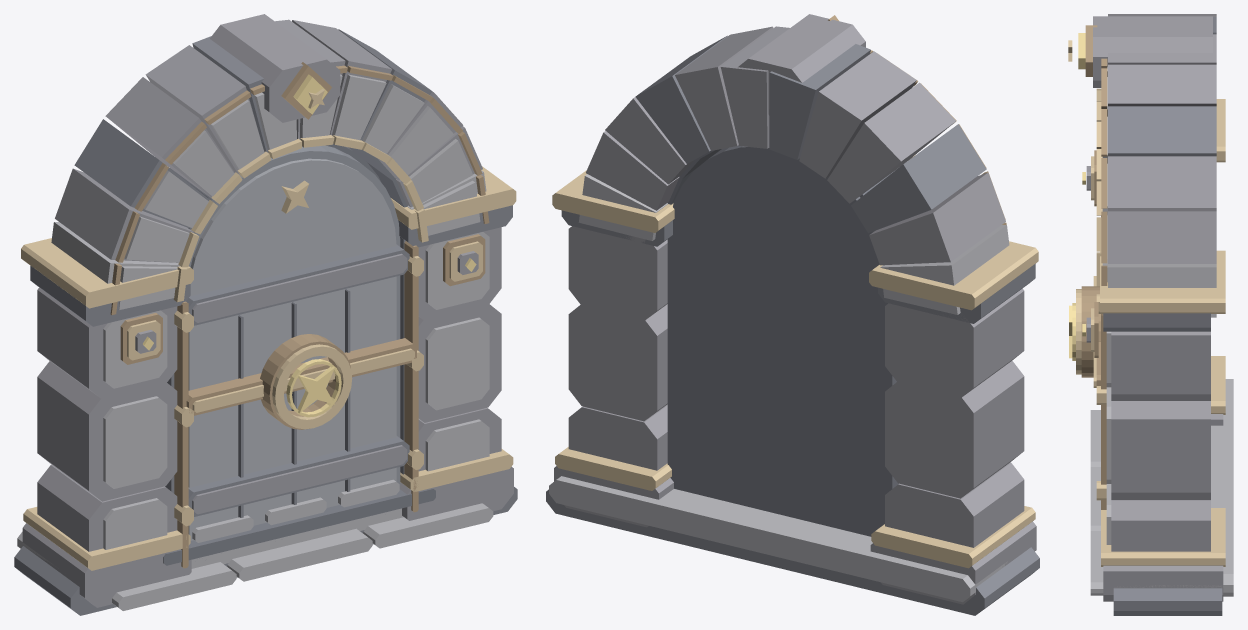
File: temple_sliding_door_animated.glb
The picture shows the model from 3 angles, left to right: view 1: azimuth 30°, elevation 25°; view 2: azimuth 150°, elevation 25°; view 3: azimuth 270°, elevation 25°; orthographic projection. The views are drawn at different scales.
Parts seen in each view (by area): view 1: frame_Temple_Stone, frame_Stone_Light, panel_Panel_Highlight, frame_Bronze_Gold, frame_Stone_Shadow, frame_Bronze_Shadow, panel_Temple_Stone, panel_Stone_Shadow, panel_Bronze_Gold, frame_Deep_Recess, panel_Bronze_Shadow, panel_Panel_Stone (+3 smaller); view 2: frame_Temple_Stone, panel_Deep_Recess, frame_Stone_Shadow, frame_Stone_Light, frame_Bronze_Gold; view 3: frame_Temple_Stone, frame_Stone_Shadow, frame_Bronze_Gold, frame_Stone_Light, frame_Bronze_Shadow, panel_Bronze_Shadow, panel_Bronze_Gold, frame_Magic_Gold, panel_Magic_Gold.
Boxes of the visible parts, x1,y1,x2,y2 form: frame_Temple_Stone: (22,14,513,607); frame_Stone_Light: (17,74,493,610); panel_Panel_Highlight: (188,158,396,540); frame_Bronze_Gold: (21,89,516,570); frame_Stone_Shadow: (14,29,517,615); frame_Bronze_Shadow: (110,62,489,568); panel_Temple_Stone: (192,253,407,514); panel_Stone_Shadow: (186,244,409,517); panel_Bronze_Gold: (192,180,414,429); frame_Deep_Recess: (163,147,435,565); panel_Bronze_Shadow: (186,334,416,429); panel_Panel_Stone: (189,145,400,485); frame_Temple_Stone: (554,14,1036,604); panel_Deep_Recess: (667,145,898,536); frame_Stone_Shadow: (546,35,1039,615); frame_Stone_Light: (549,174,1009,602); frame_Bronze_Gold: (552,154,1038,568); frame_Temple_Stone: (1086,14,1223,601); frame_Stone_Shadow: (1103,17,1222,615); frame_Bronze_Gold: (1068,40,1225,566); frame_Stone_Light: (1090,66,1233,596); frame_Bronze_Shadow: (1085,25,1107,509); panel_Bronze_Shadow: (1081,286,1100,385); panel_Bronze_Gold: (1076,276,1096,387); frame_Magic_Gold: (1078,33,1085,336); panel_Magic_Gold: (1069,303,1075,360).
Size of the model in its own units: 4.35 by 4.73 by 1.45.
